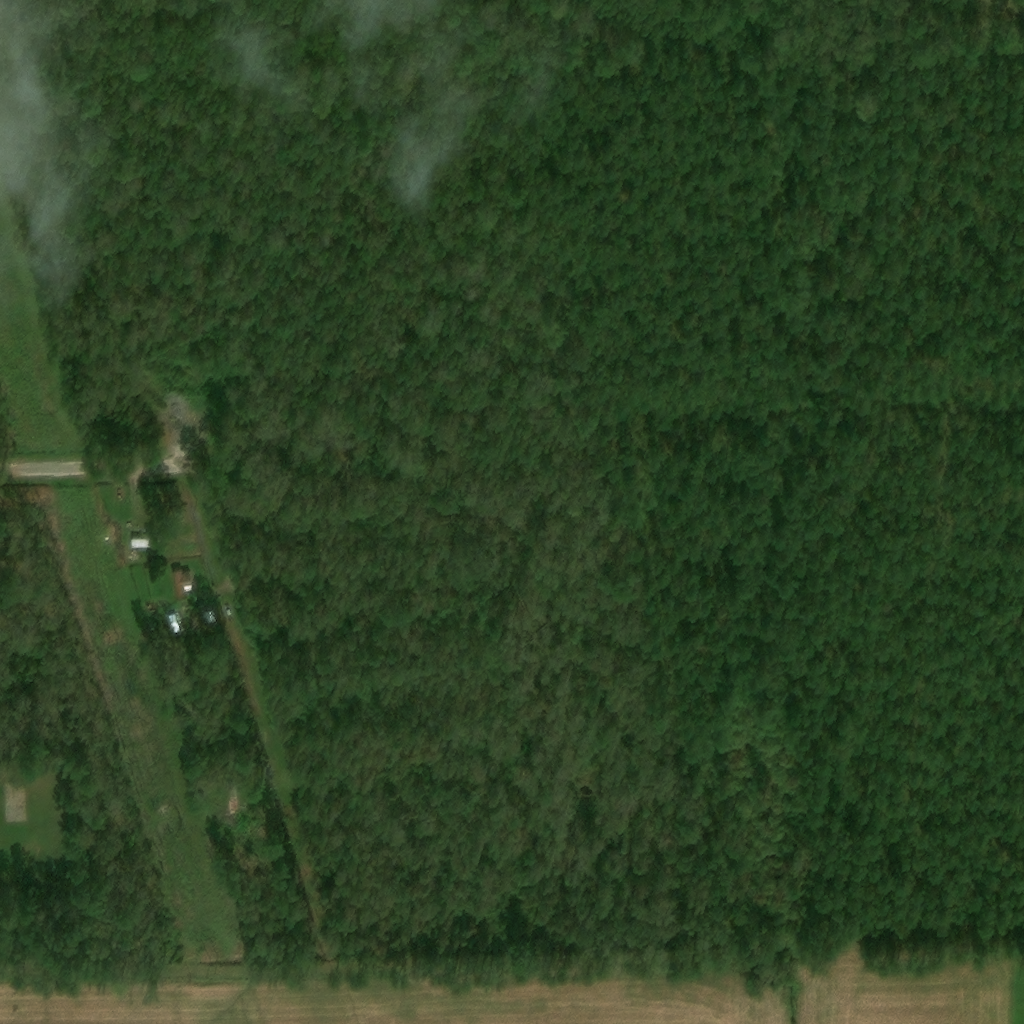no_damage: (170, 572, 192, 602), (128, 540, 166, 551), (164, 616, 180, 631)
